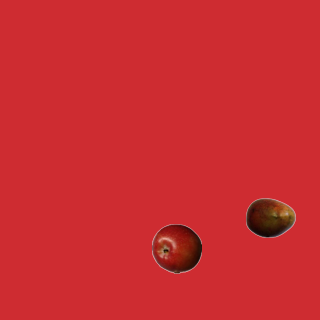Apple Braeburn: (151, 223, 201, 273)
Mango Red: (245, 192, 295, 242)
